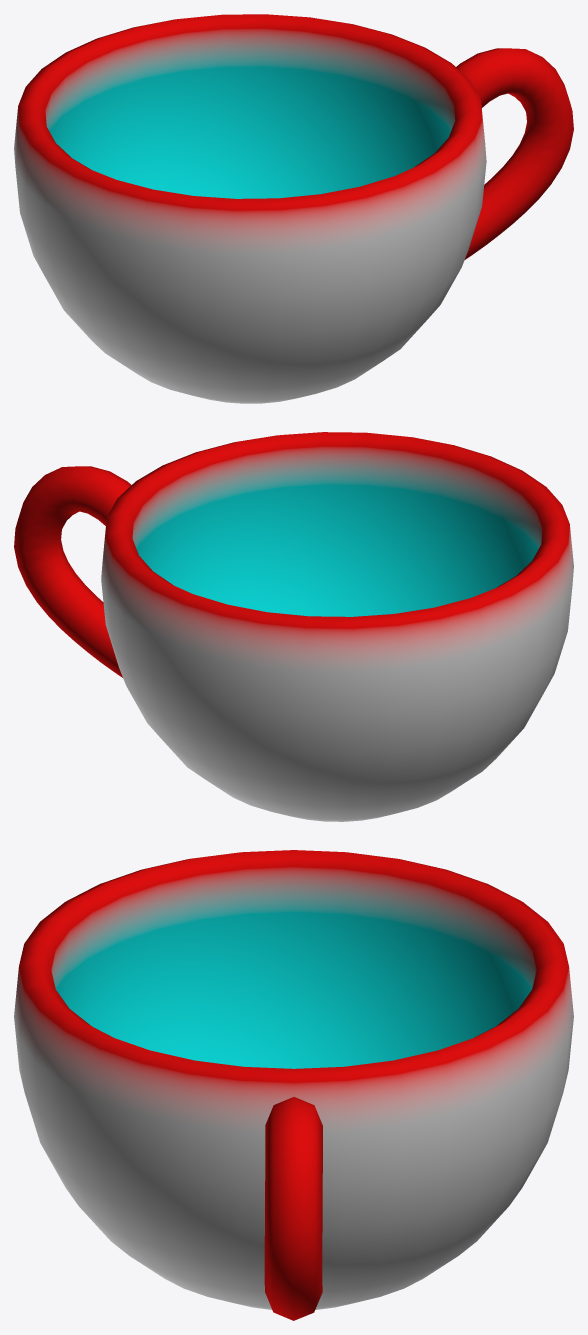
The model's file is CoffeeMug.fbx.
3 renders of one model, top to bottom at view 1: azimuth 30°, elevation 25°; view 2: azimuth 150°, elevation 25°; view 3: azimuth 270°, elevation 25°, orthographic. The views are drawn at different scales.
Parts seen in each view (by area): view 1: CoffeeMug; view 2: CoffeeMug; view 3: CoffeeMug.
Boxes of the visible parts, x1,y1,x2,y2 form: CoffeeMug: (14,14,573,403); CoffeeMug: (14,432,573,821); CoffeeMug: (14,850,573,1320).
Bounding box in the file's own units: 1 × 0.4944 × 0.7814.
